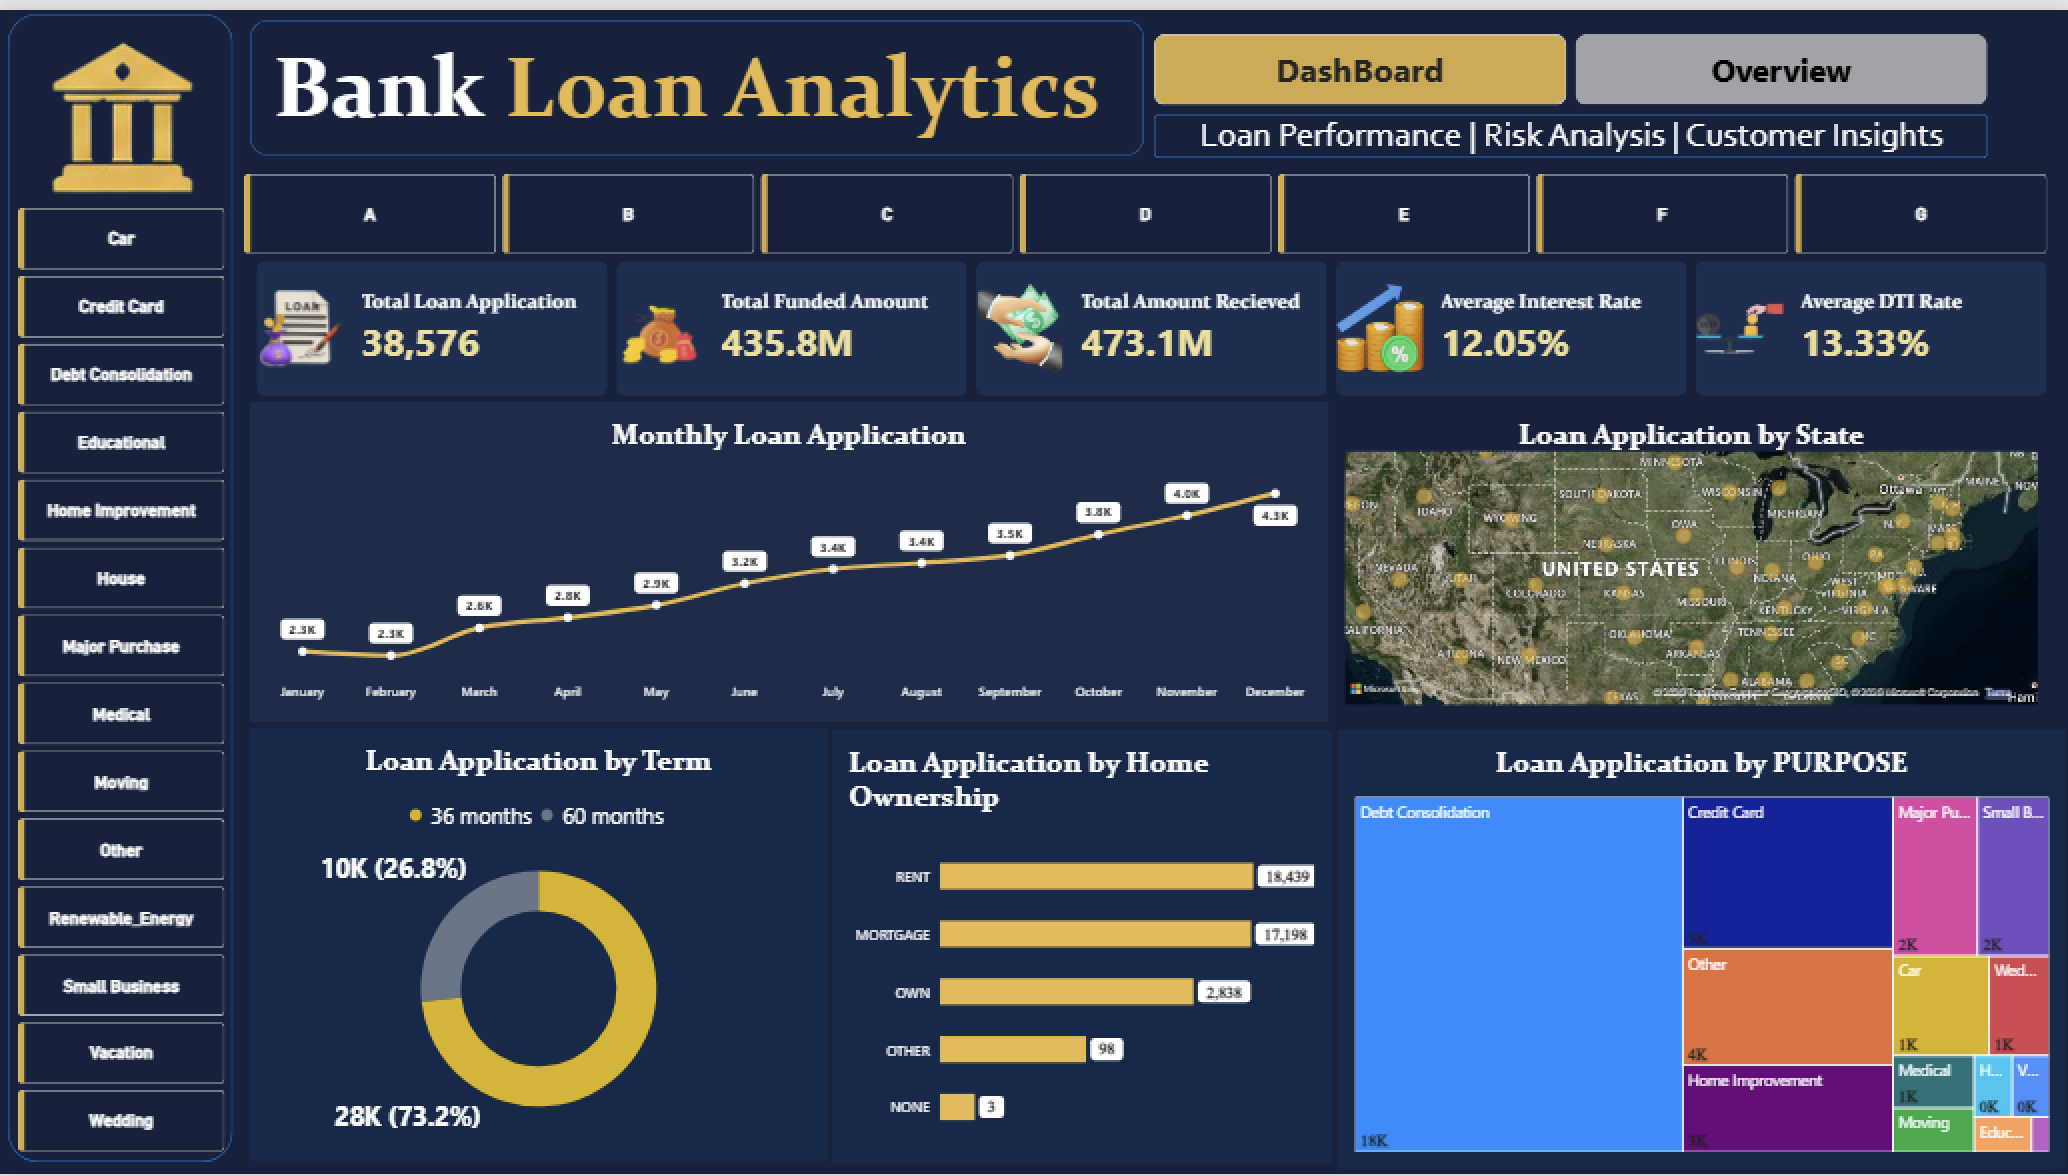

The page's visual inventory and layout, read from the dashboard file:
{"tool":"powerbi","page":{"name":"Overview","canvas":[1920,1080],"ordinal":1},"visuals":[{"type":"image","box":[0,0,263.9,208.6],"z":0},{"type":"textbox","box":[253.6,22.5,784.8,104.2],"z":1000},{"type":"textbox","box":[1114.1,96.6,731.6,42.1],"z":2000},{"type":"shape","box":[232,10,830,126],"z":3000},{"type":"shape","box":[8.2,4.1,208.6,1065.7],"z":4000},{"type":"cardVisual","fields":{"Data":["financial_loan.Total Loan Application","financial_loan.Total Funded Amount","financial_loan.Total Amount Recieved","financial_loan.Average Interest Rate","financial_loan.Average DTI Rate"]},"box":[232,226,1676,138],"z":5000},{"type":"advancedSlicerVisual","fields":{"Values":["financial_loan.PURPOSE"]},"box":[16,184,192,880],"z":6000},{"type":"advancedSlicerVisual","fields":{"Values":["financial_loan.GRADE"]},"box":[226,152,1676,74],"z":7000},{"type":"shape","box":[1071.4,96.6,774.3,40.9],"z":8000},{"type":"pageNavigator","box":[1071.4,22.3,774.3,66.8],"z":9000},{"type":"lineChart","title":"Monthly Loan Application","fields":{"Category":["financial_loan.ISSUE_DATE.Variation.Date Hierarchy.Month"],"Y":["financial_loan.Total Loan Application"]},"box":[232.1,363.9,1000.9,297.1],"z":10000},{"type":"donutChart","title":"Loan Application by Term","fields":{"Category":["financial_loan.TERM"],"Y":["financial_loan.Total Loan Application"]},"box":[232,666,536,402],"z":11000},{"type":"clusteredBarChart","title":"Loan Application by Home Ownership","fields":{"Category":["financial_loan.HOME_OWNERSHIP"],"Y":["financial_loan.Total Loan Application"]},"box":[772,668,464,402],"z":12000},{"type":"treemap","title":"Loan Application by PURPOSE","fields":{"Group":["financial_loan.PURPOSE"],"Values":["financial_loan.Total Loan Application"]},"box":[1242,668,676,408],"z":13000},{"type":"map","title":"Loan Application by State","fields":{"Category":["financial_loan.ADDRESS_STATE"]},"box":[1233,364,675,297],"z":14001}]}

Visuals, with their boxes in screenshot pixels (x1, y1, x2, y2), scaled from the page's 1920x1080 canvas onto the 2068x1176 screenshot:
image: Rect(0, 0, 284, 227)
textbox: Rect(273, 24, 1118, 138)
textbox: Rect(1200, 105, 1988, 151)
shape: Rect(250, 11, 1144, 148)
shape: Rect(9, 4, 234, 1165)
cardVisual - financial_loan.Total Loan Application x financial_loan.Total Funded Amount: Rect(250, 246, 2055, 396)
advancedSlicerVisual - financial_loan.PURPOSE: Rect(17, 200, 224, 1159)
advancedSlicerVisual - financial_loan.GRADE: Rect(243, 166, 2049, 246)
shape: Rect(1154, 105, 1988, 150)
pageNavigator: Rect(1154, 24, 1988, 97)
"Monthly Loan Application" lineChart: Rect(250, 396, 1328, 720)
"Loan Application by Term" donutChart: Rect(250, 725, 827, 1163)
"Loan Application by Home Ownership" clusteredBarChart: Rect(832, 727, 1331, 1165)
"Loan Application by PURPOSE" treemap: Rect(1338, 727, 2066, 1172)
"Loan Application by State" map: Rect(1328, 396, 2055, 720)
